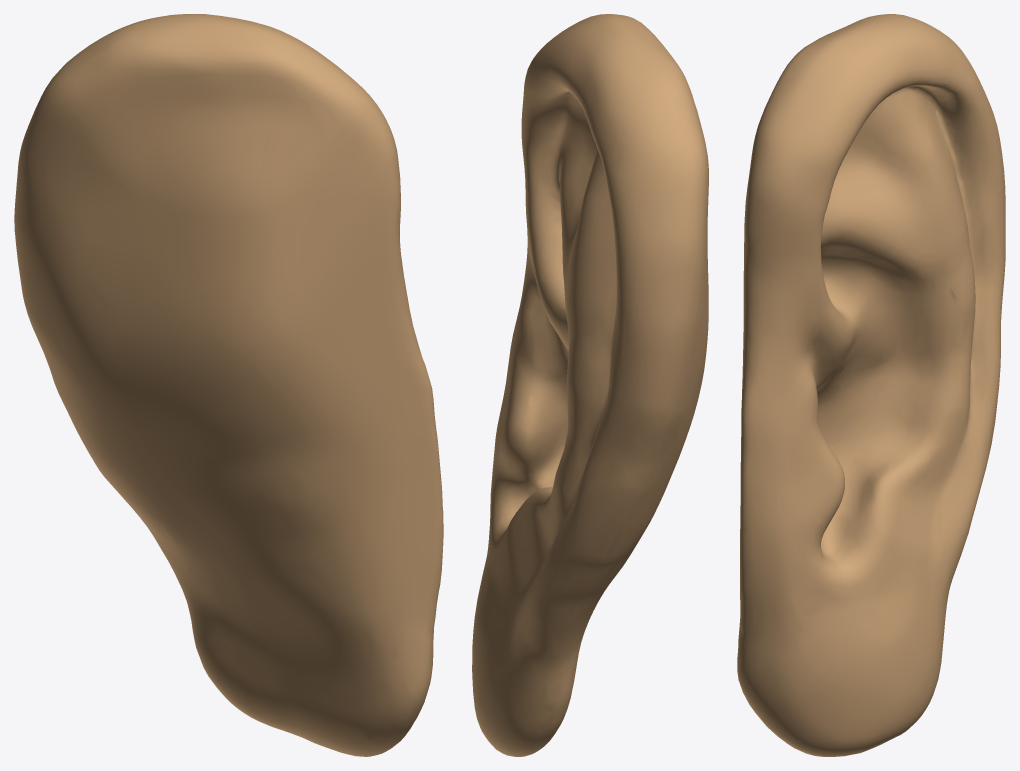
The model's file is testing_ear.glb.
The picture shows the model from 3 angles, left to right: view 1: azimuth 30°, elevation 25°; view 2: azimuth 150°, elevation 25°; view 3: azimuth 270°, elevation 25°; orthographic projection. The views are drawn at different scales.
Visible parts, largest first — view 1: uploads_files_718444_ear_study3; view 2: uploads_files_718444_ear_study3; view 3: uploads_files_718444_ear_study3.
Boxes of the visible parts, x1,y1,x2,y2 form: uploads_files_718444_ear_study3: (14, 14, 443, 756); uploads_files_718444_ear_study3: (472, 14, 708, 756); uploads_files_718444_ear_study3: (737, 14, 1005, 756).
Bounding box in the file's own units: 1.52 × 3.55 × 1.29.
Materials: 1 (1 with a texture image).
